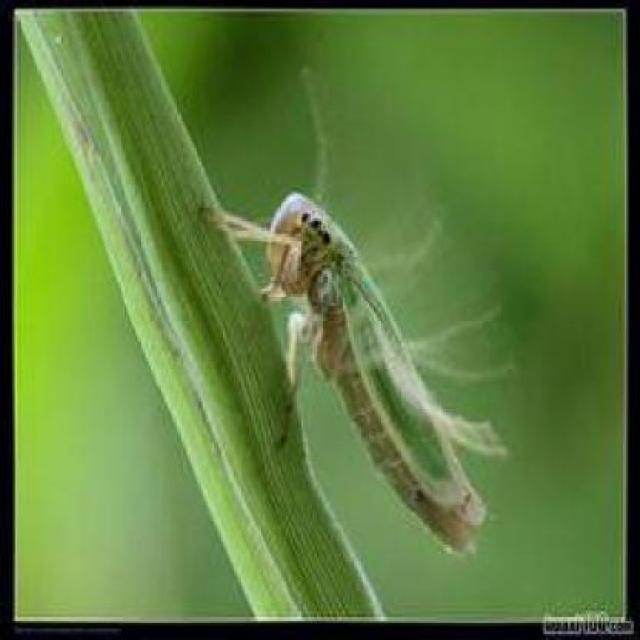green-leafhopper: (263, 184, 495, 562)
